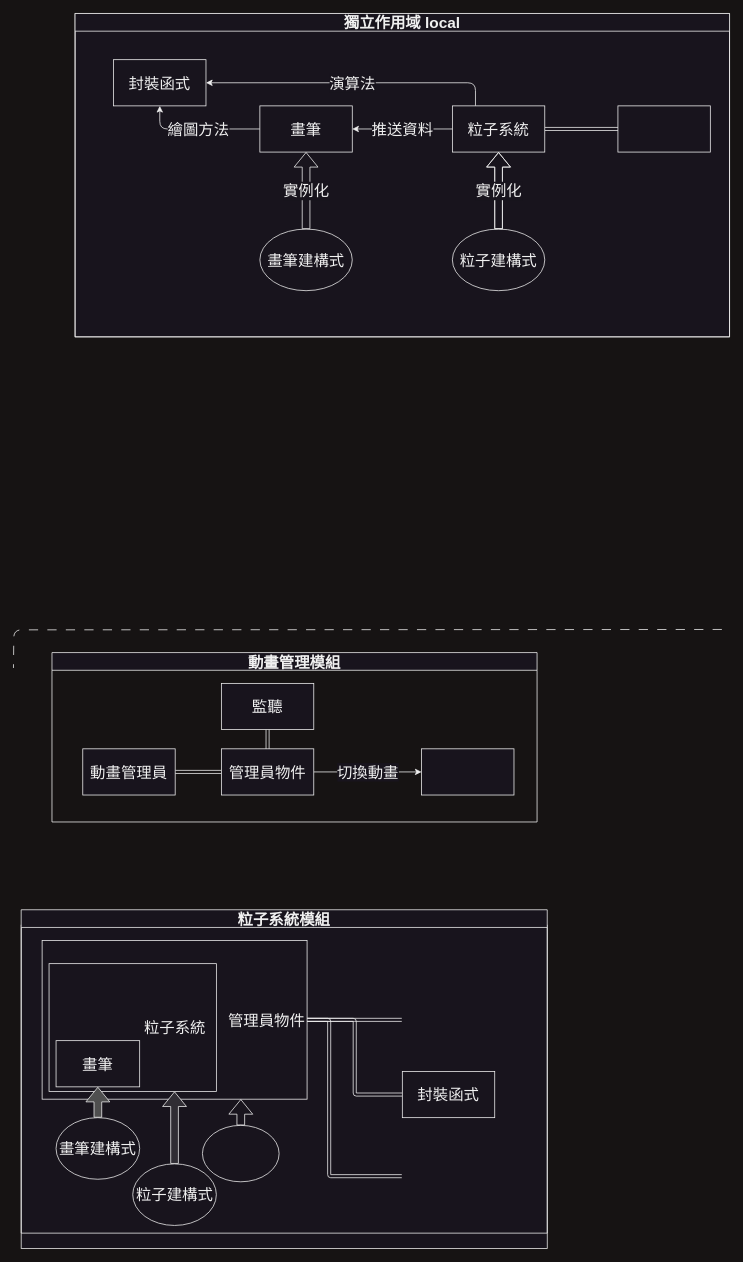
The diagram is 743 pixels wide and 1262 high, and some of its shapes have lost their labels. Each missing label, with the centre of its shape:
"事件監聽" goes at [663,128].
"執行" goes at [467,771].
"管理員 建構式" goes at [240,1153].
